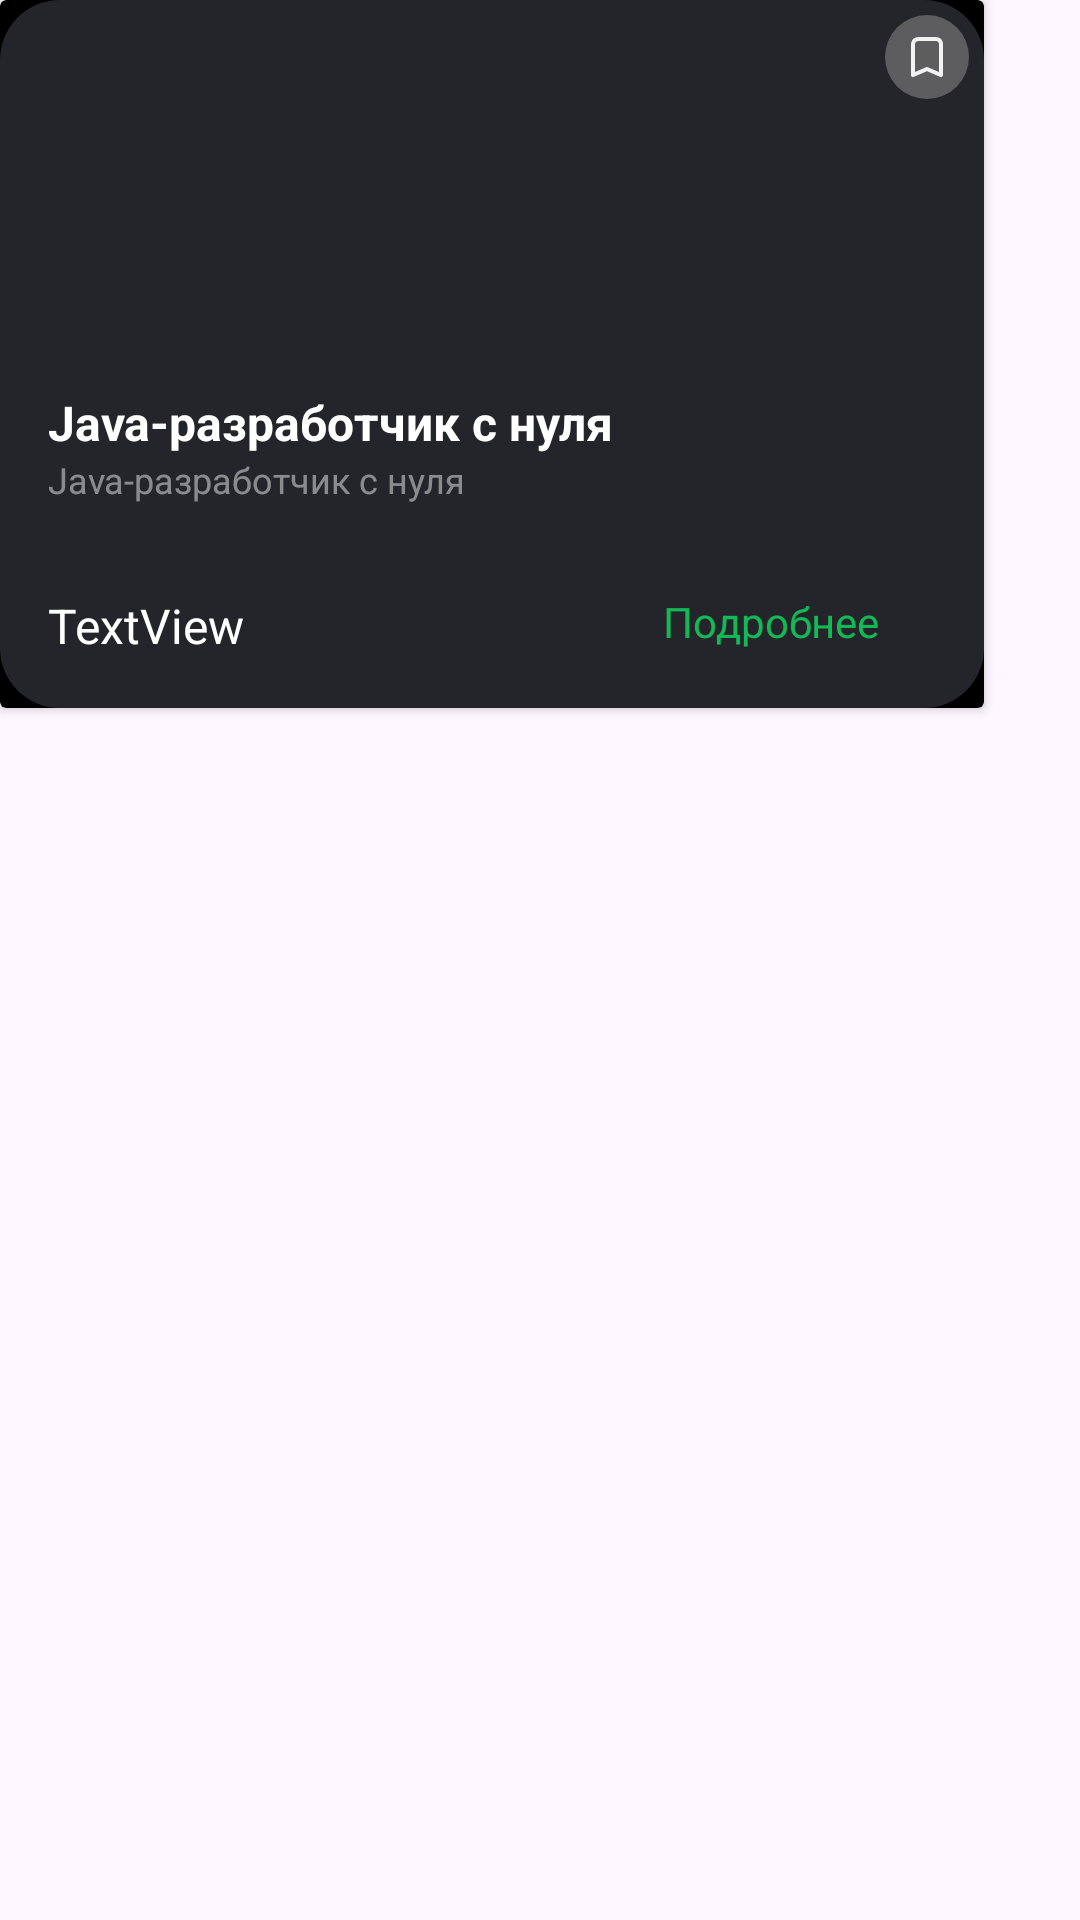

Icon bounding boxes for this 1080px×1920px phone screenshot, format Rect(x1, y1, x2, y2):
add favorites: Rect(885, 15, 969, 99)
